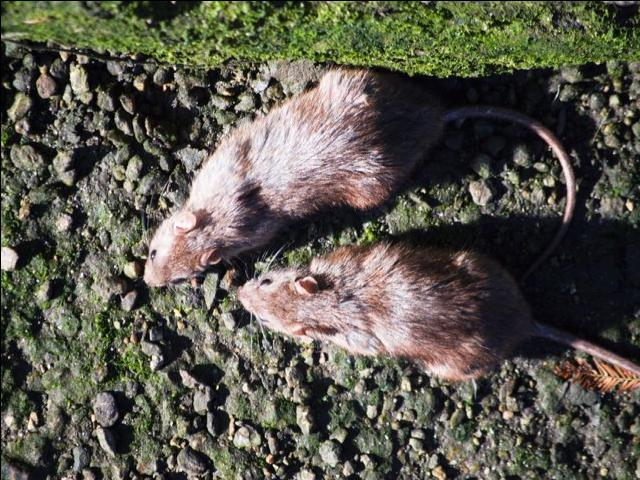Tikus: (144, 70, 377, 288), (234, 241, 532, 382)
